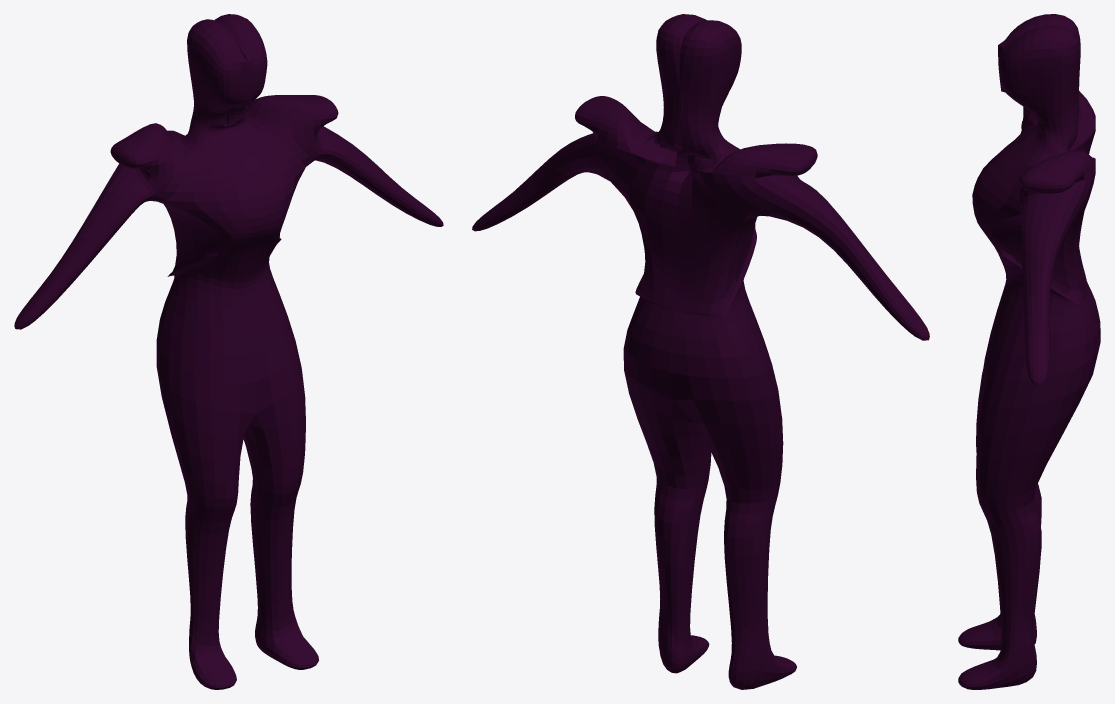
File: Scout.fbx
3 views of the same model, side by side, from view 1: azimuth 30°, elevation 25°; view 2: azimuth 150°, elevation 25°; view 3: azimuth 270°, elevation 25° (orthographic). The views are drawn at different scales.
Visible parts, largest first — view 1: Skeleton; view 2: Skeleton; view 3: Skeleton.
Boxes of the visible parts, x1=… form: Skeleton: x1=14, y1=14, x2=443, y2=689; Skeleton: x1=472, y1=14, x2=929, y2=689; Skeleton: x1=958, y1=14, x2=1100, y2=689.
Size of the model in its own units: 1102 by 1550 by 311.
